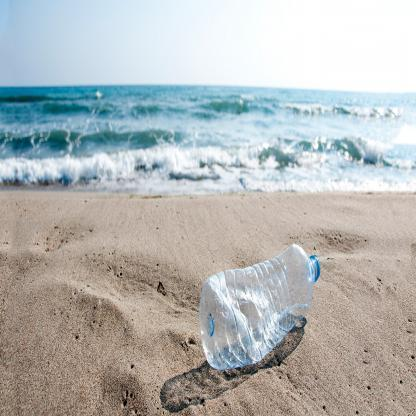Plastic: (196, 237, 328, 376)
